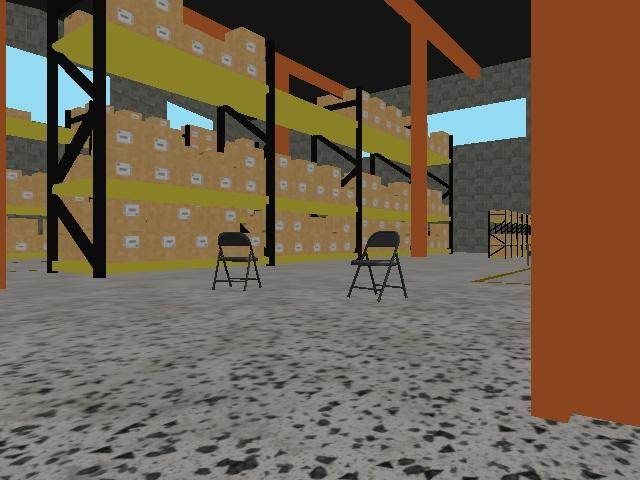chair: (347, 231, 408, 302), (212, 232, 262, 291)
